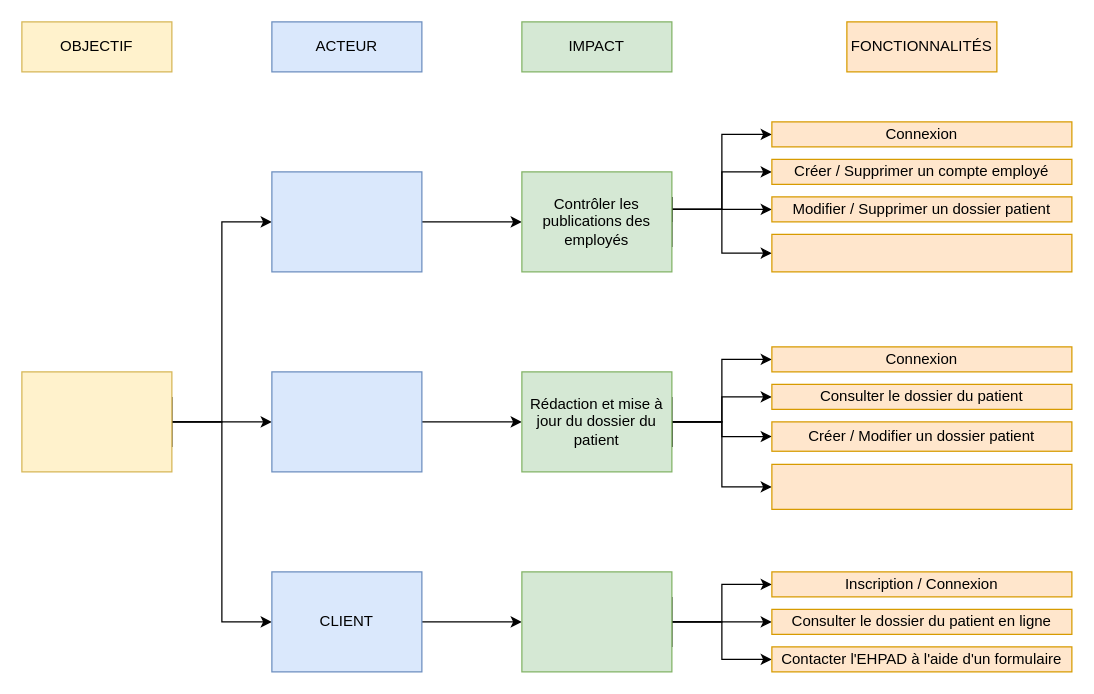
Some shapes in this 1094 by 694 pixel diagram are drawn without their labels. The shapes that lost their labels are listed below. From the top down, each one's centre as x and y in pixels, then its label:
At [346,221]: "RESPONSABLE".
At [921,252]: "Visualiser le nombre de patients suivis par chaque employé".
At [96,421]: "Mise en place d'un système d'information efficace".
At [346,421]: "EMPLOYÉ".
At [921,486]: "Contacter tous les proches du patient en cas d'urgence".
At [596,621]: "S'informer plus facilement, même à distance".
